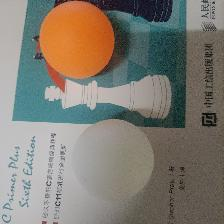WhiteBall: (71, 118, 154, 203)
YellowBall: (38, 1, 114, 79)
